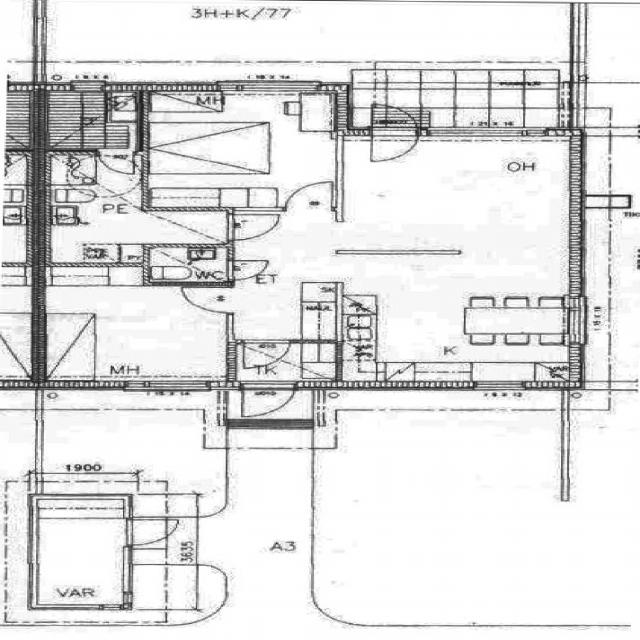door: (242, 382, 292, 419), (372, 102, 418, 136), (372, 128, 418, 162), (122, 520, 179, 546), (243, 340, 289, 370), (227, 214, 279, 240), (286, 182, 330, 211), (182, 288, 232, 313), (227, 261, 267, 280), (100, 152, 134, 174)
